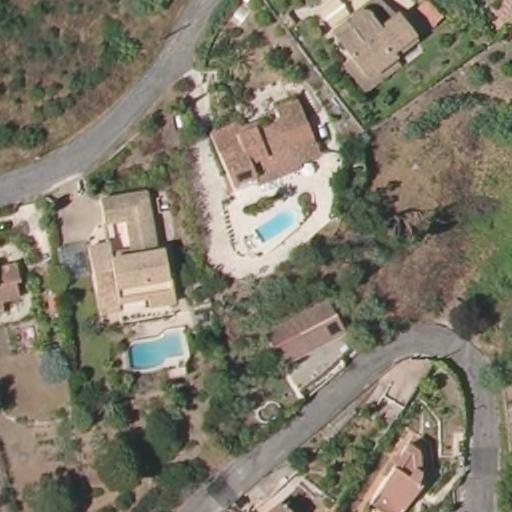pool: (121, 325, 190, 372), (254, 210, 299, 245)
